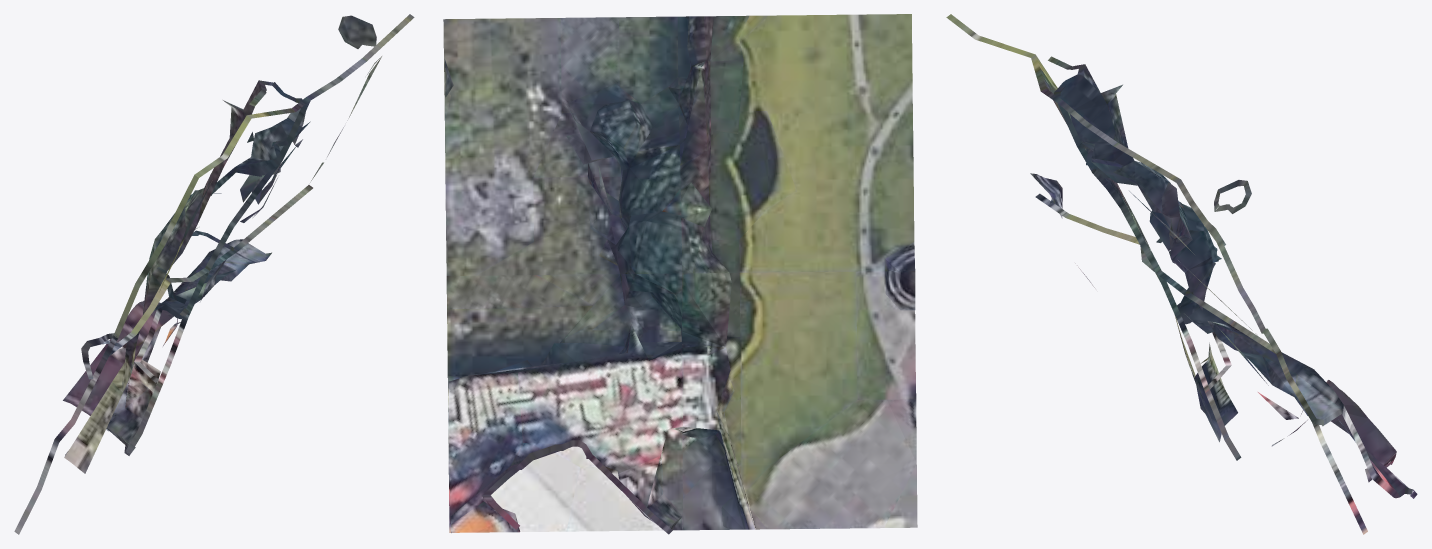
3 renders of one model, left to right at view 1: azimuth 30°, elevation 25°; view 2: azimuth 150°, elevation 25°; view 3: azimuth 270°, elevation 25°, orthographic. The views are drawn at different scales.
Size of the model in its own units: 38.41 by 36.18 by 36.36.
1 material, 1 textured.
